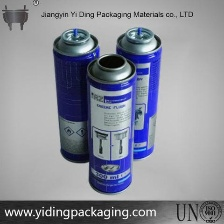aerosol_cans: (83, 50, 137, 197), (49, 24, 104, 166), (111, 23, 163, 164)
